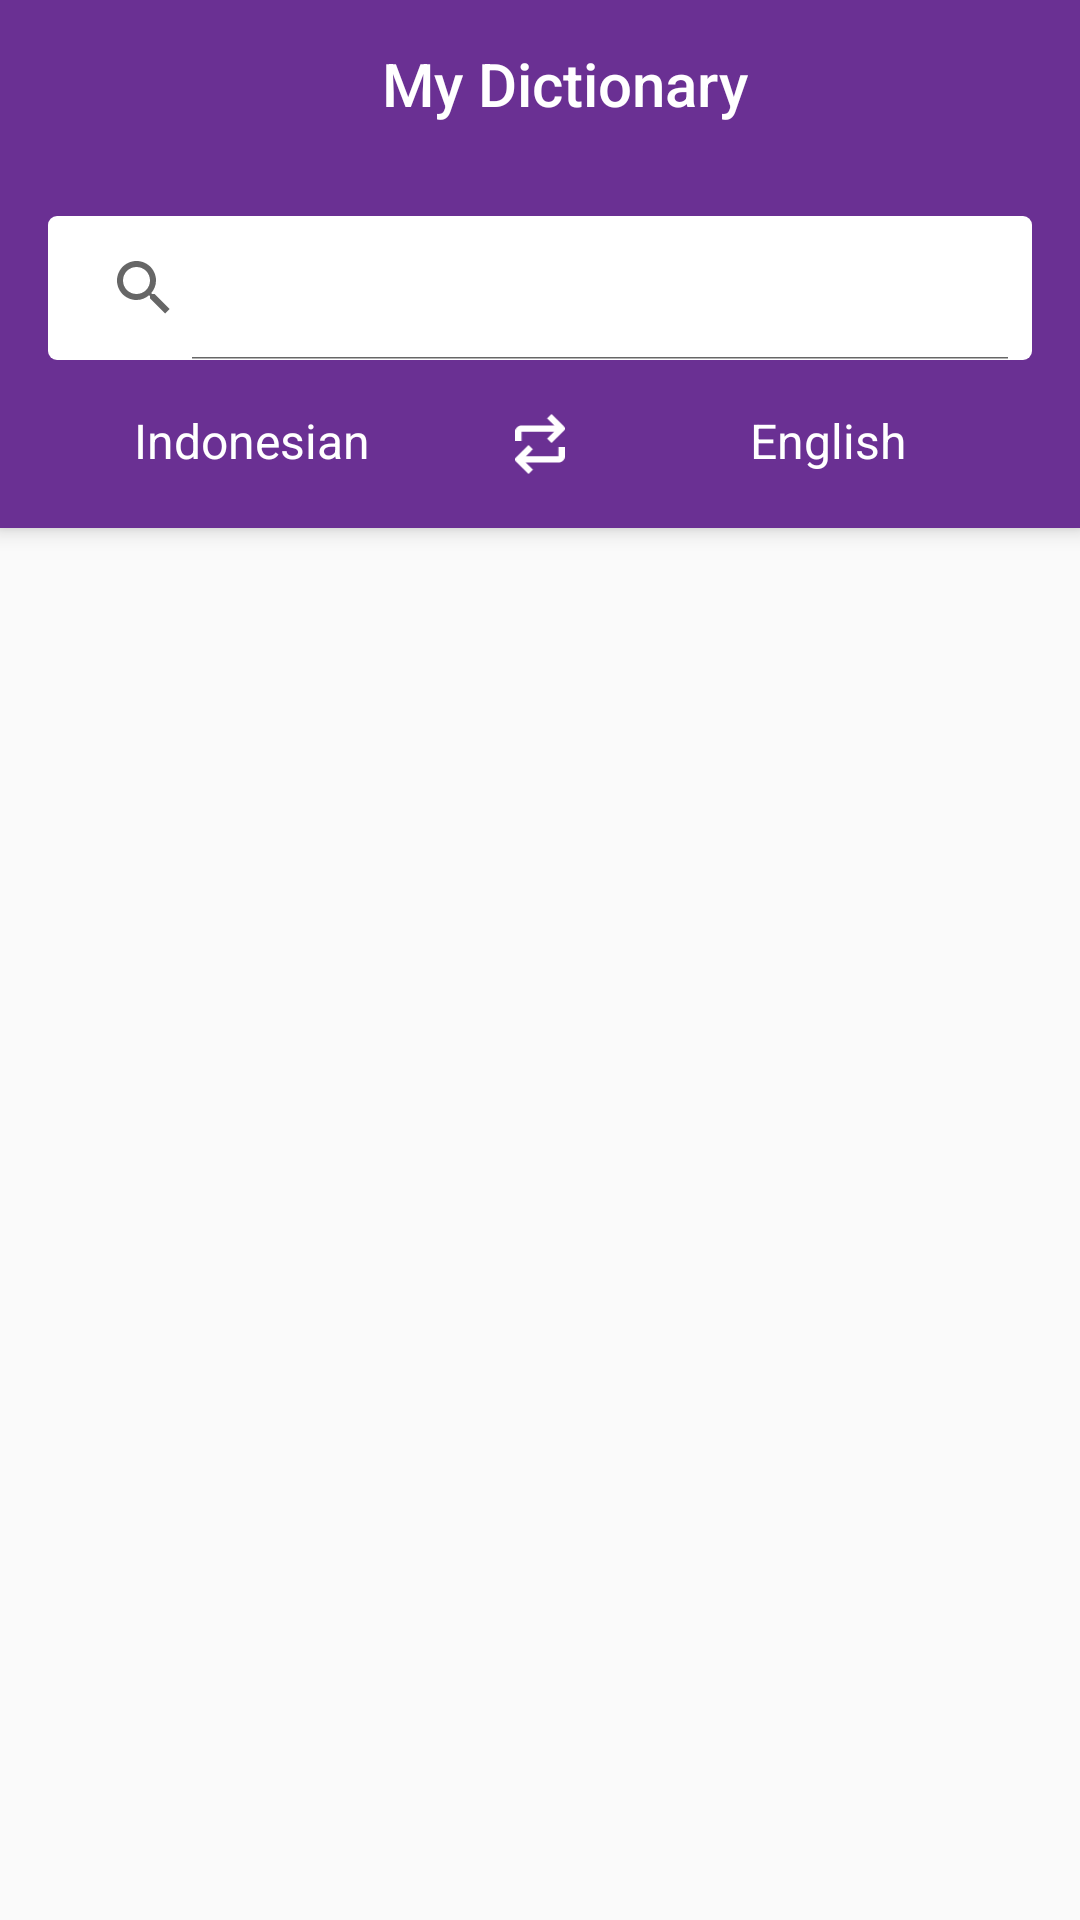

Icon click points for this 1080x1920 phone screenshot, format (x=x, y=y):
exchange: (x=540, y=444)
